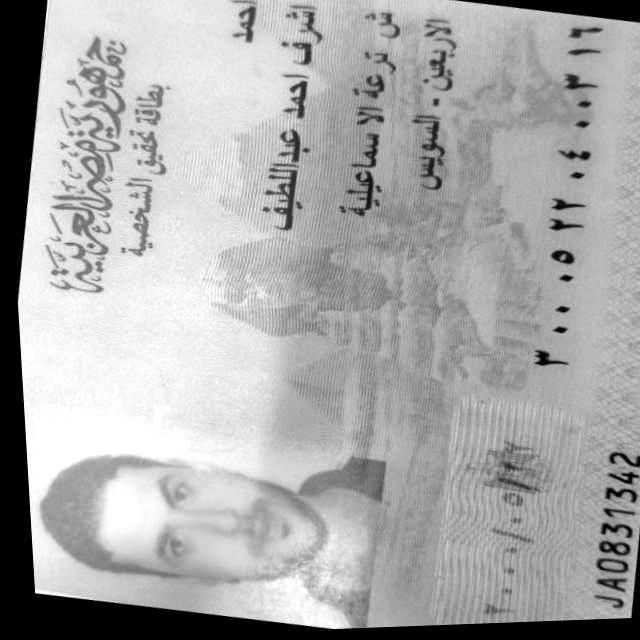id_card: (18, 0, 639, 627)
